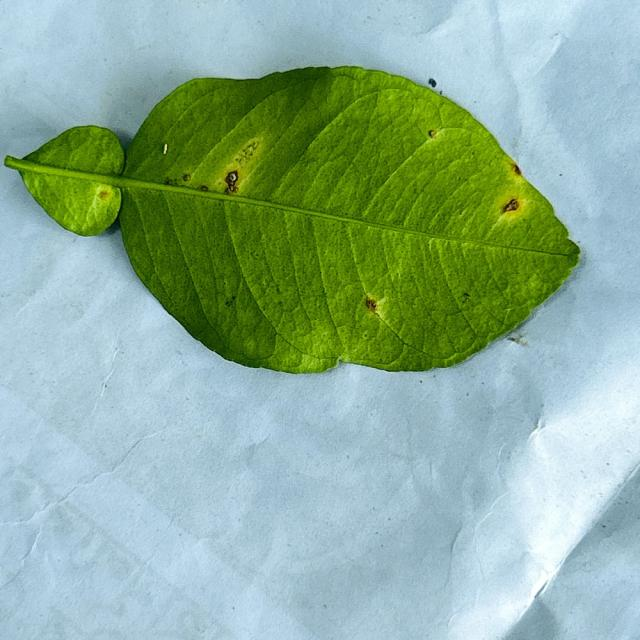Anthracnose: (140, 166, 244, 198), (71, 178, 121, 234), (364, 296, 392, 323), (422, 130, 442, 143), (502, 198, 519, 213), (426, 78, 442, 93), (511, 164, 522, 176), (225, 296, 236, 307), (99, 190, 109, 199), (474, 305, 484, 314), (237, 157, 245, 166), (273, 286, 281, 295), (247, 144, 255, 152), (463, 292, 470, 299), (362, 332, 369, 338)
Lemon: (7, 66, 583, 376)
